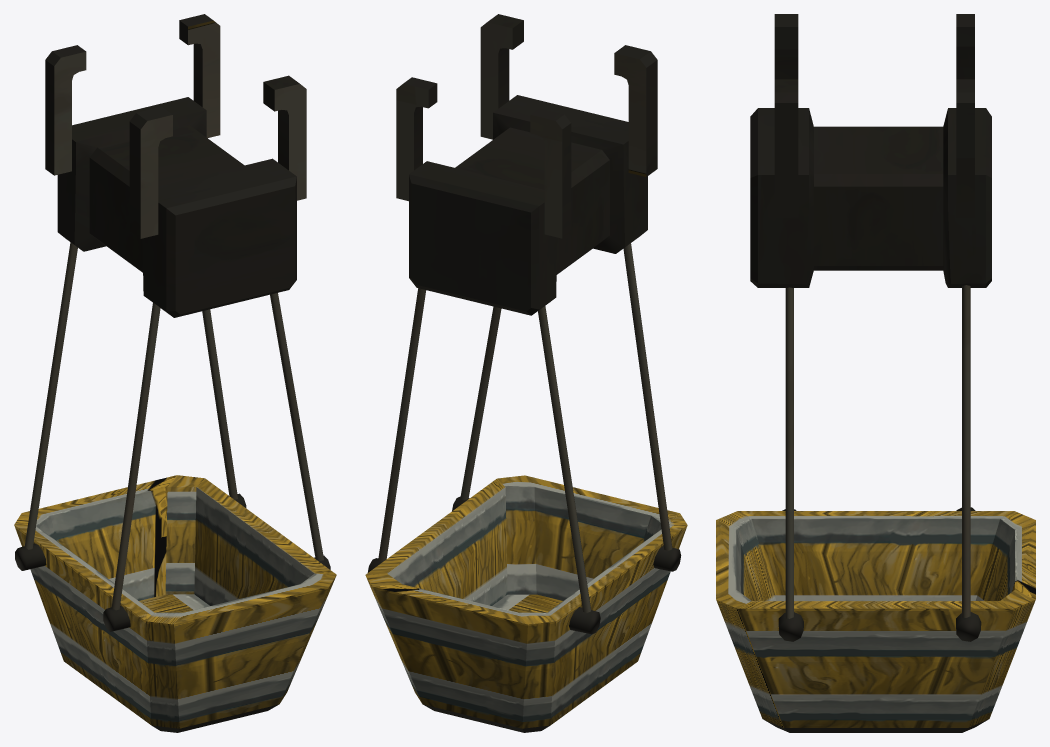
The model's file is Gantry_Crane.FBX.
3 views of the same model, side by side, from view 1: azimuth 30°, elevation 25°; view 2: azimuth 150°, elevation 25°; view 3: azimuth 270°, elevation 25° (orthographic). The views are drawn at different scales.
Parts seen in each view (by area): view 1: Object172; view 2: Object172; view 3: Object172.
Boxes of the visible parts, x1,y1,x2,y2 form: Object172: [14, 14, 336, 732]; Object172: [365, 14, 687, 732]; Object172: [716, 14, 1035, 732].
Bounding box in the file's own units: 1.23 × 3.29 × 1.46.
